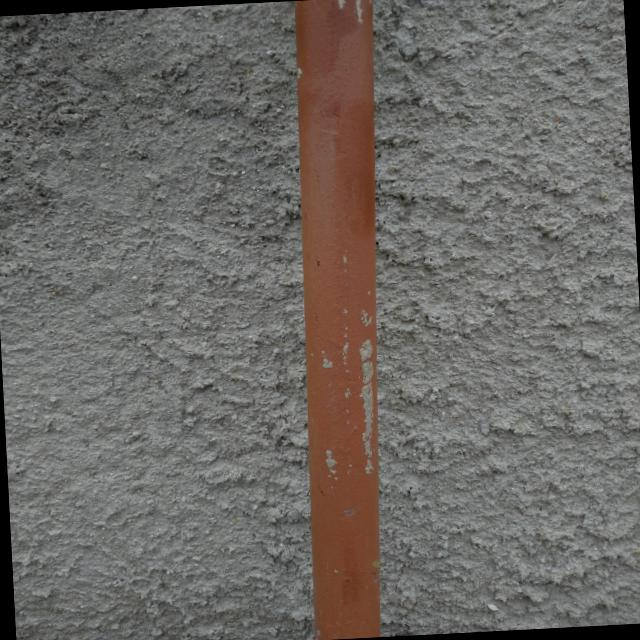gas: (295, 0, 382, 640)
